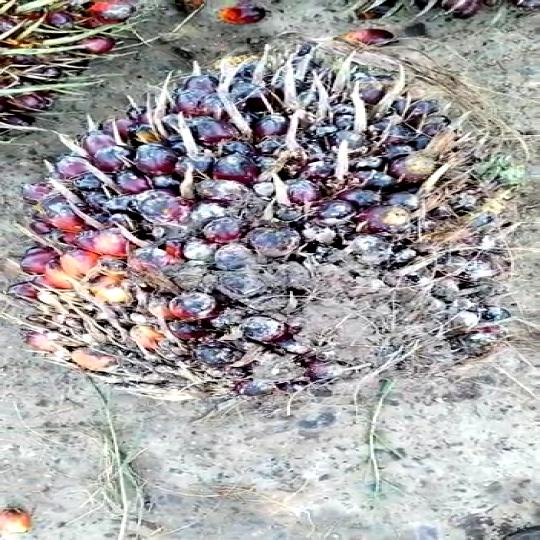mentah: (16, 38, 520, 420)
